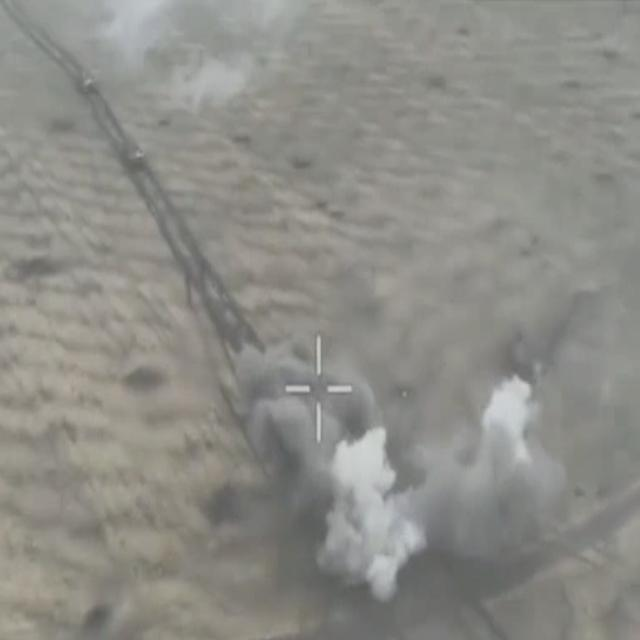vehicle: (124, 140, 146, 171), (79, 69, 99, 96)
